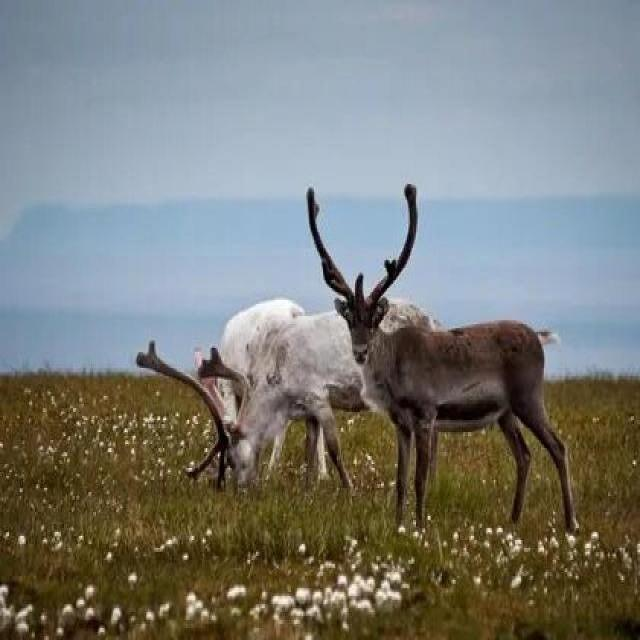deer: (324, 252, 594, 589), (230, 283, 504, 530)
